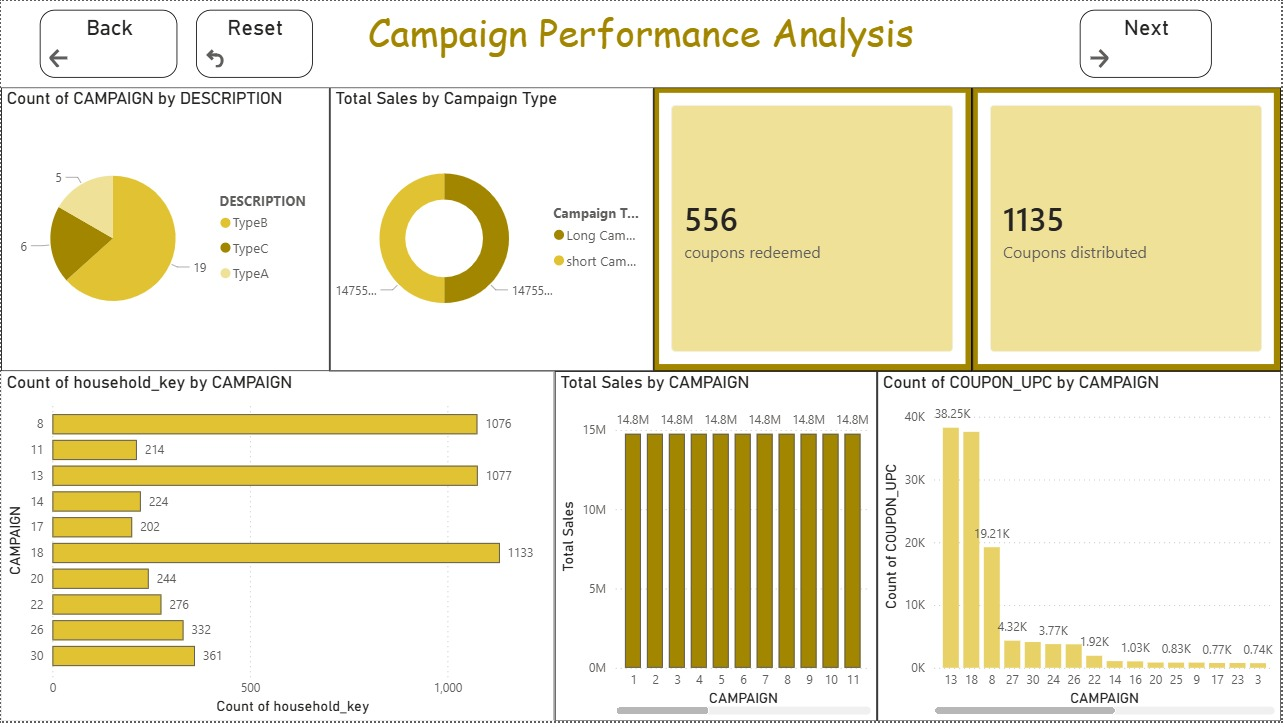

What the dashboard file says about the page in this screenshot:
{"tool":"powerbi","page":{"name":"Campaign Performance Analysis","canvas":[1280,720],"ordinal":8},"visuals":[{"type":"pieChart","fields":{"Category":["campaign_desc.DESCRIPTION"],"Y":["CountNonNull(campaign_desc.CAMPAIGN)"]},"box":[0,86.2,328.8,283.8],"z":0},{"type":"barChart","fields":{"Y":["CountNonNull(campaign_table.household_key)"],"Category":["campaign_desc.CAMPAIGN"]},"box":[0,370,553.8,350],"z":1000},{"type":"cardVisual","fields":{"Data":["KPI.coupons redeemed"]},"box":[652.5,86.2,318.8,283.8],"z":2000},{"type":"cardVisual","fields":{"Data":["KPI.Coupons distributed"]},"box":[971.2,86.2,308.8,283.8],"z":3000},{"type":"donutChart","fields":{"Category":["campaign_desc.Campaign Type"],"Y":["KPI.Total Sales"]},"box":[328.8,86.2,323.8,283.8],"z":4000},{"type":"clusteredColumnChart","fields":{"Category":["campaign_desc.CAMPAIGN"],"Y":["KPI.Total Sales"]},"box":[553.8,370,322.5,350],"z":5000},{"type":"columnChart","fields":{"Y":["CountNonNull(coupon.COUPON_UPC)"],"Category":["campaign_desc.CAMPAIGN"]},"box":[876.2,370,403.8,350],"z":6000},{"type":"textbox","box":[0,0,1280,86.2],"z":7000},{"type":"actionButton","title":"Next","box":[1078.3,8.3,131.7,68.3],"z":8000},{"type":"actionButton","title":"Back","box":[39,8.3,137.7,68.2],"z":9000},{"type":"actionButton","title":"Reset","box":[194.8,8.3,116.9,68.2],"z":9001}]}

Visuals, with their boxes in screenshot pixels (x1, y1, x2, y2), scaled from the page's 1280x720 canvas onto the 1284x727 screenshot:
pieChart - campaign_desc.DESCRIPTION x CountNonNull(campaign_desc.CAMPAIGN): l=0, t=87, r=330, b=374
barChart - CountNonNull(campaign_table.household_key) x campaign_desc.CAMPAIGN: l=0, t=374, r=556, b=726
cardVisual - KPI.coupons redeemed: l=655, t=87, r=974, b=374
cardVisual - KPI.Coupons distributed: l=974, t=87, r=1283, b=374
donutChart - campaign_desc.Campaign Type x KPI.Total Sales: l=330, t=87, r=655, b=374
clusteredColumnChart - campaign_desc.CAMPAIGN x KPI.Total Sales: l=556, t=374, r=879, b=726
columnChart - CountNonNull(coupon.COUPON_UPC) x campaign_desc.CAMPAIGN: l=879, t=374, r=1283, b=726
textbox: l=0, t=0, r=1283, b=87
"Next" actionButton: l=1082, t=8, r=1214, b=77
"Back" actionButton: l=39, t=8, r=177, b=77
"Reset" actionButton: l=195, t=8, r=313, b=77
